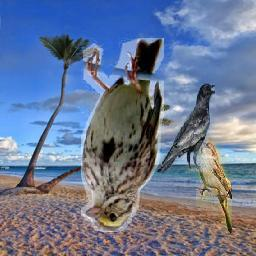Crow: (157, 83, 216, 173)
Sparrow: (82, 38, 165, 232), (196, 139, 232, 234)
